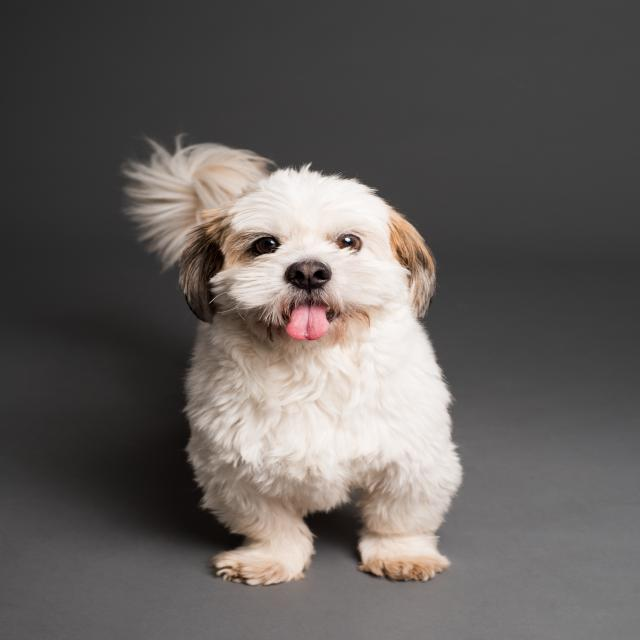dogs: (112, 131, 468, 590)
